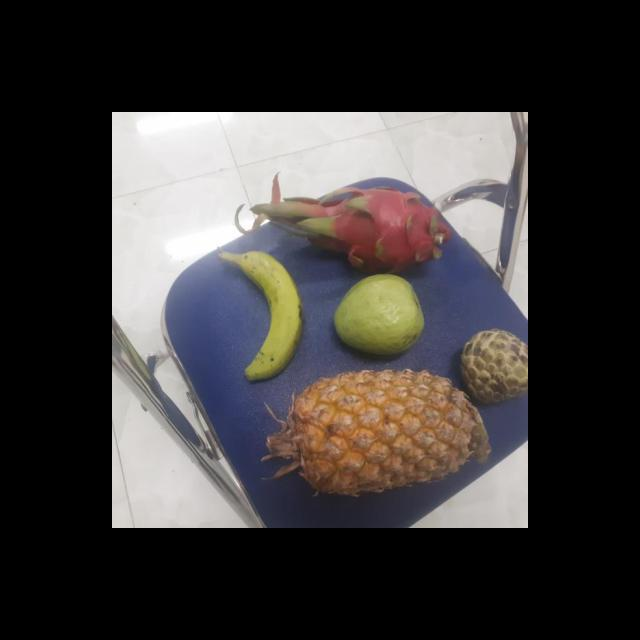Sakya fruit: (456, 329, 528, 406)
banana: (223, 250, 302, 376)
guava: (330, 276, 424, 355)
pineapple: (266, 370, 484, 494)
pitaya: (308, 184, 444, 272)
